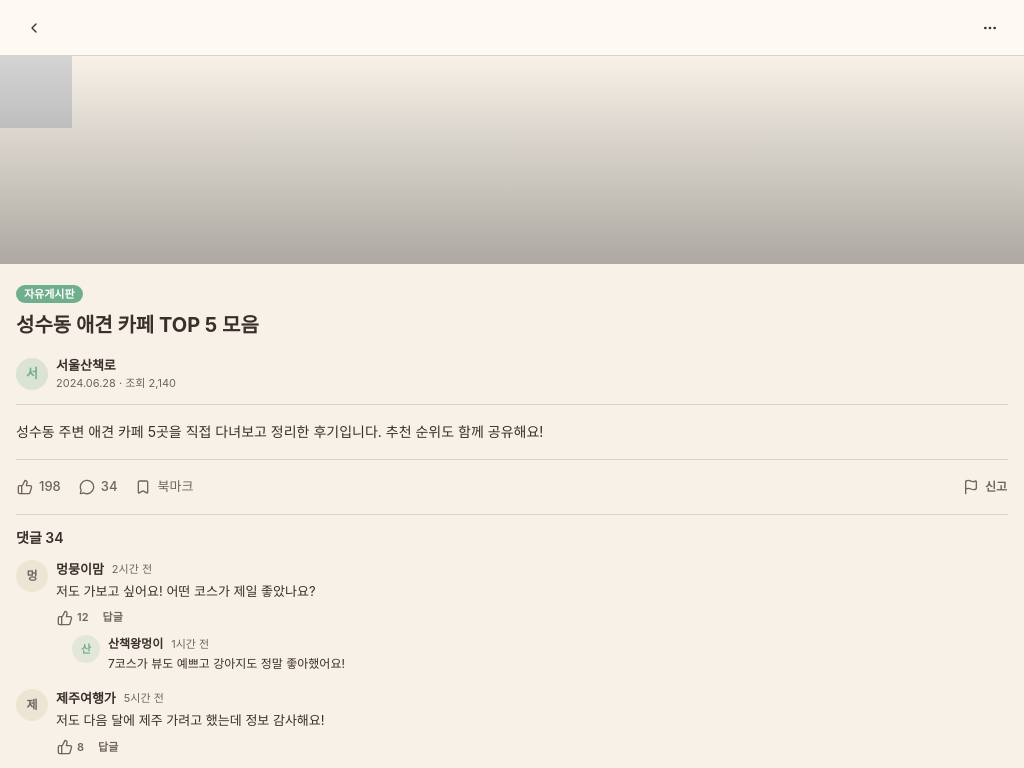
Test case: CommunityScreen › hides companion cards on free posts and uses bookmarking instead of sharing
Click the button "북마크" at (164, 487), box [134,472,194,502]
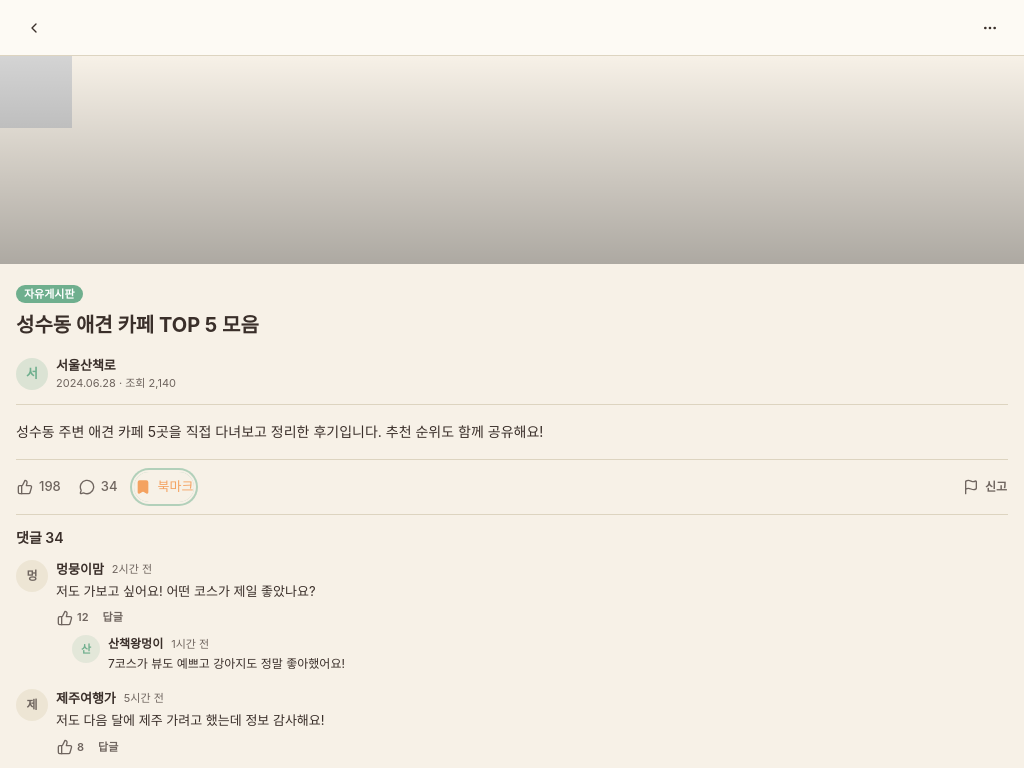
Expected: the button with aria-label "북마크 취소" is pressed, [134,472,194,502]
